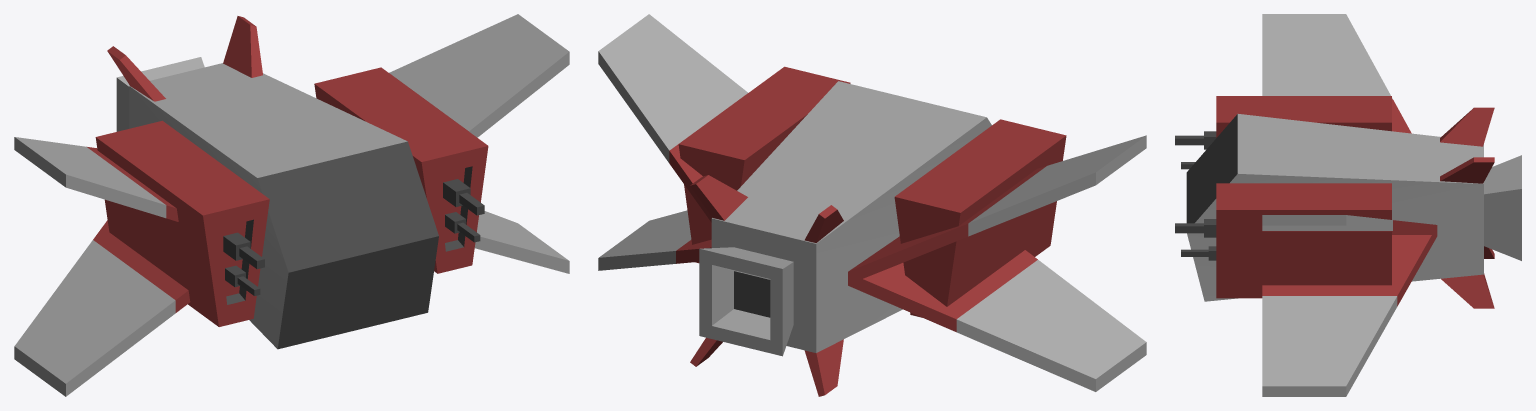
3 renders of one model, left to right at view 1: azimuth 30°, elevation 25°; view 2: azimuth 150°, elevation 25°; view 3: azimuth 270°, elevation 25°, orthographic. The views are drawn at different scales.
Parts seen in each view (by area): view 1: node-0; view 2: node-0; view 3: node-0.
Boxes of the visible parts, x1=… form: node-0: x1=14, y1=14, x2=569, y2=396; node-0: x1=598, y1=14, x2=1146, y2=396; node-0: x1=1175, y1=14, x2=1521, y2=396.
Bounding box in the file's own units: 456 × 192 × 332.
